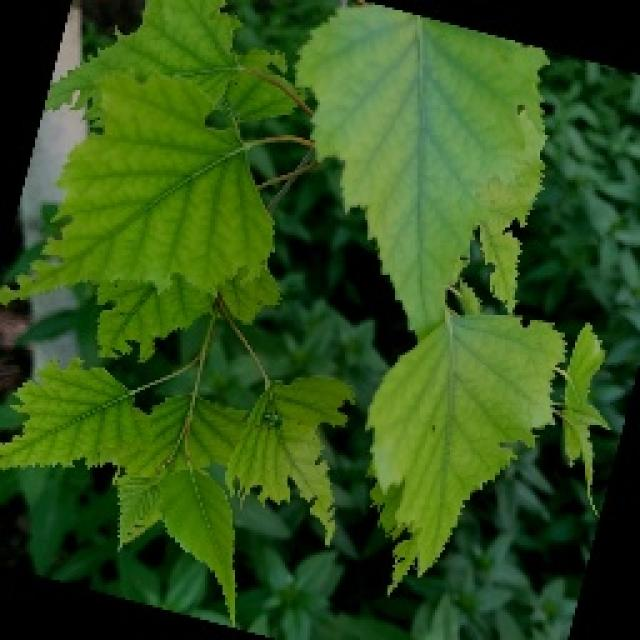Chlorosis: (50, 36, 556, 536)
